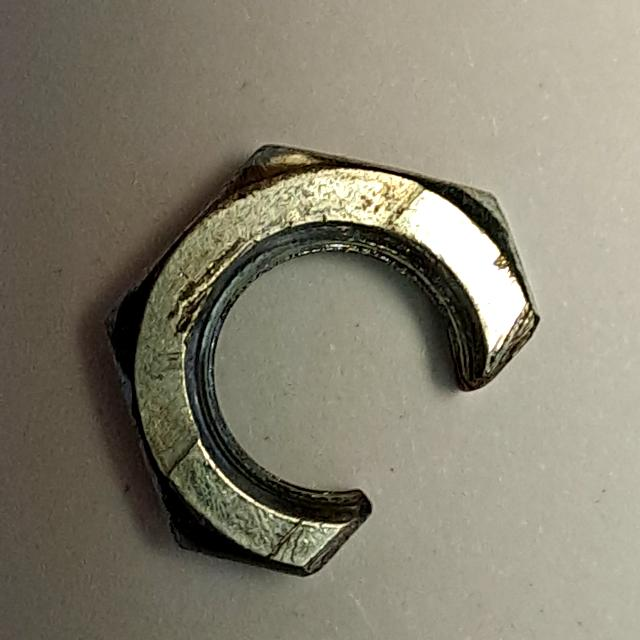Fracture: (87, 124, 550, 590)
